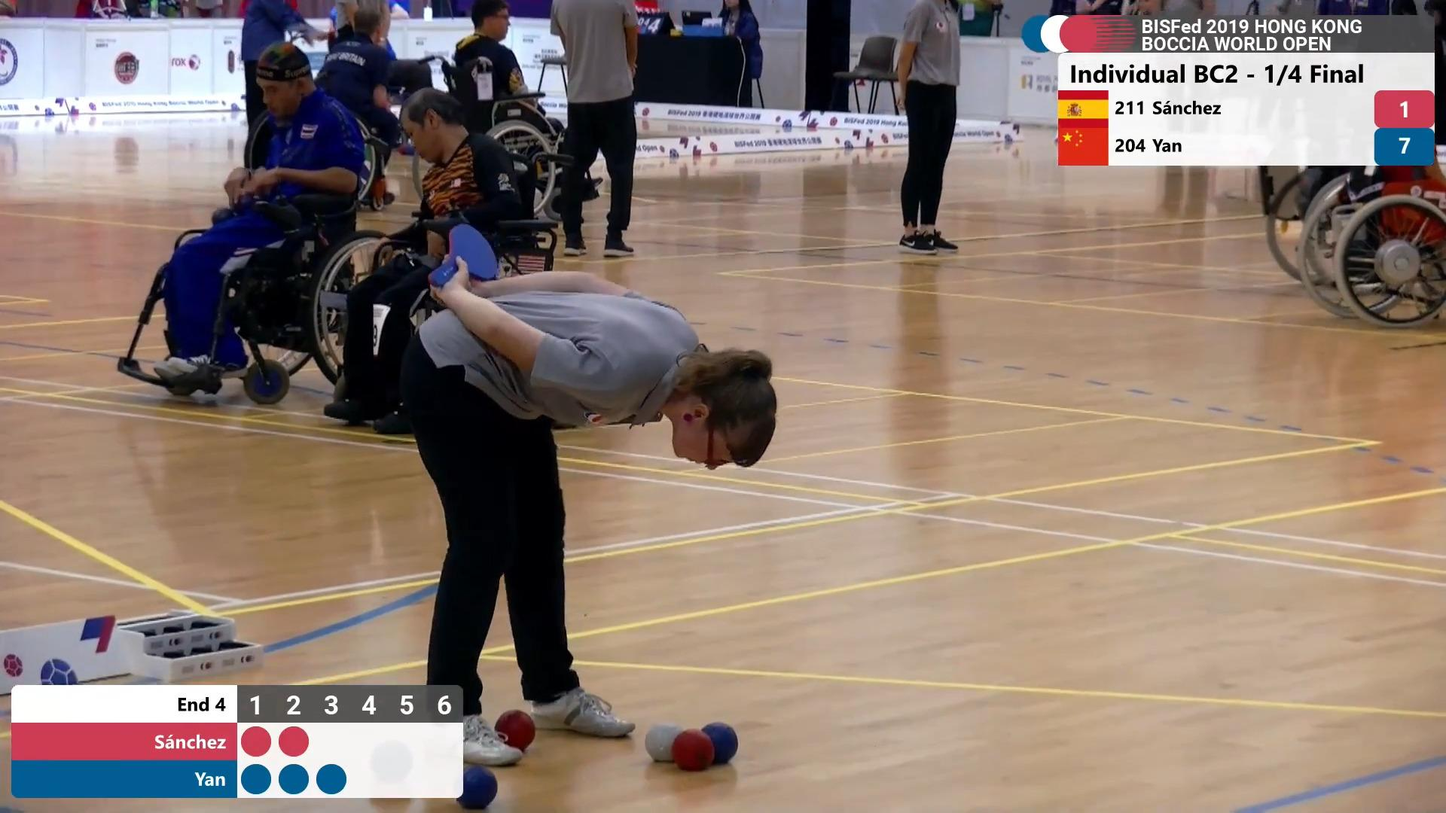blue_ball: (700, 720, 739, 767), (464, 764, 500, 809)
red_ball: (670, 725, 715, 773), (497, 707, 535, 752)
white_ball: (646, 719, 685, 771)
